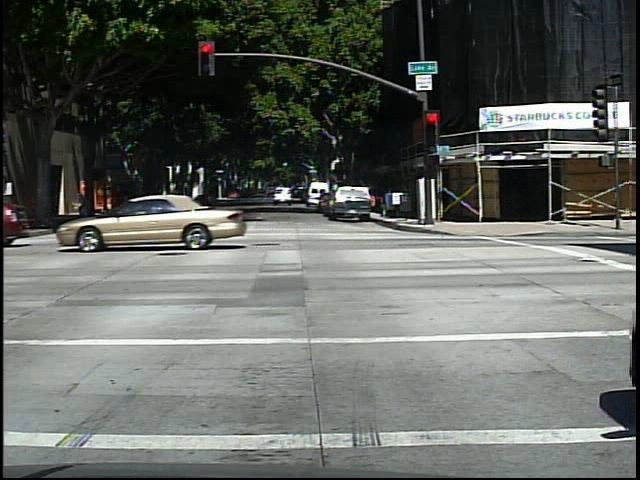person: (73, 185, 102, 221)
